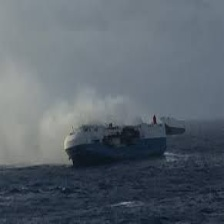smoke: (1, 99, 73, 161)
